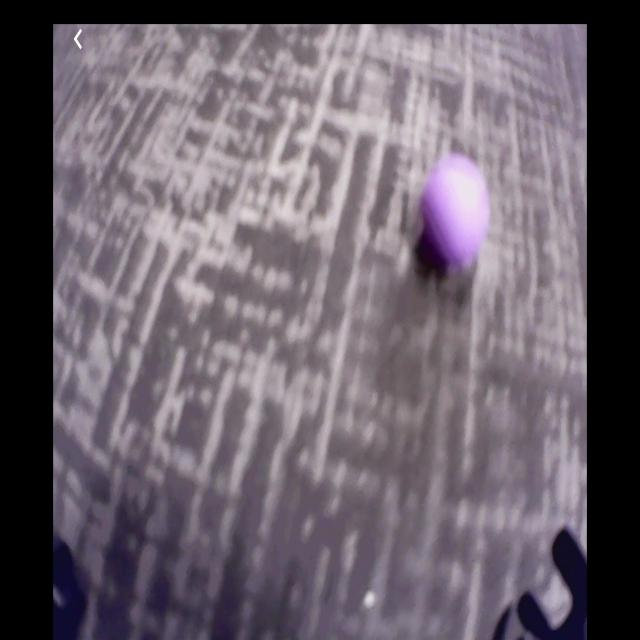ball: (425, 156, 490, 266)
